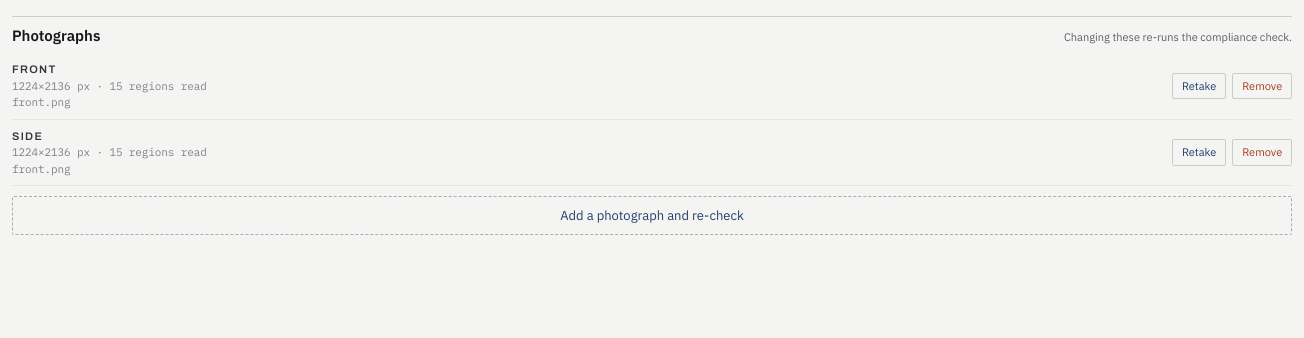
the image strip › confirms a removal with the consequence stated, not a bare prompt
The width and height of the screenshot is (1304, 338).
Click the 1st button "Remove" at point(1262, 86), box 1232,73 -> 1292,99
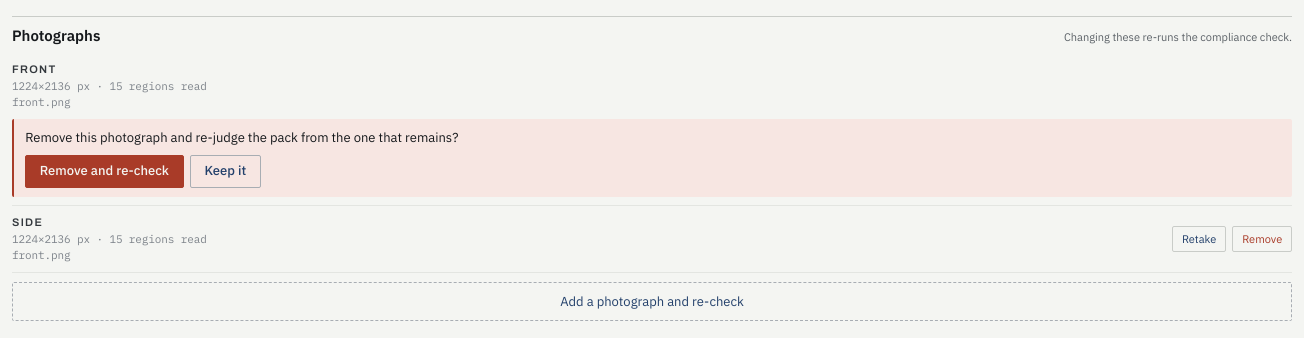
Check: the text "re-judge the pack from the one that remains" is shown, box 25,129 -> 458,146
Check: the button "Remove and re-check" is shown, box 25,155 -> 184,188
Check: the button "Keep it" is shown, box 190,155 -> 261,188
